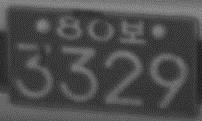0: (86, 18, 117, 43)
2: (103, 48, 146, 107)
3: (58, 45, 98, 103), (15, 41, 54, 98)
8: (55, 14, 83, 40)
9: (148, 51, 190, 108)
보: (118, 18, 145, 44)
